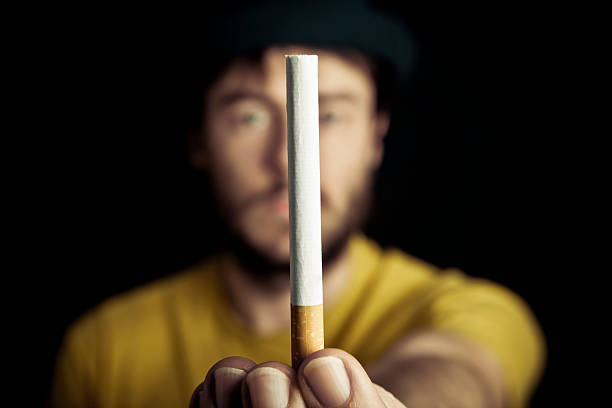cigarette: (283, 52, 325, 367)
